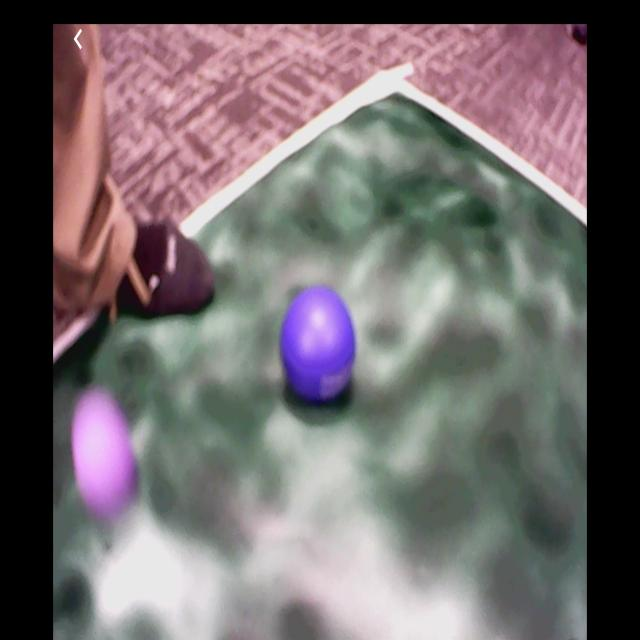ball: (281, 284, 359, 407), (70, 394, 136, 519)
